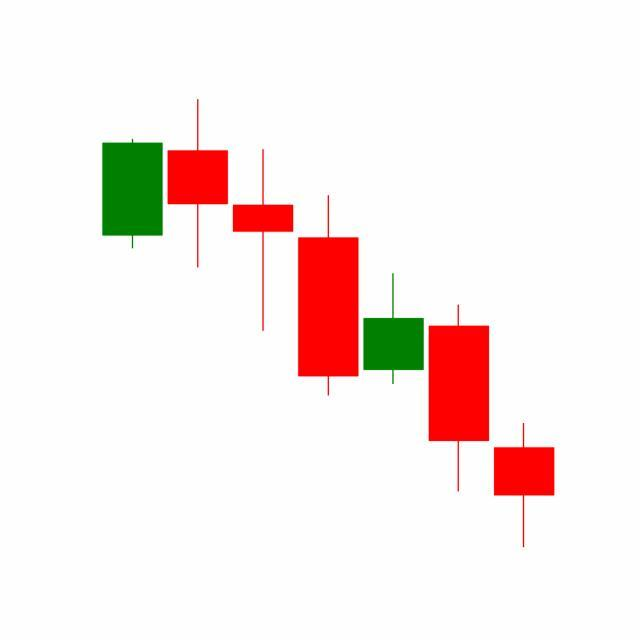Hikkake Pattern: (165, 99, 492, 496)
